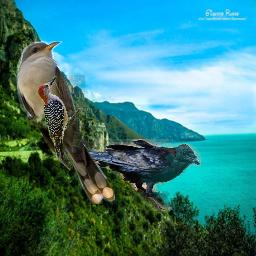Crow: (66, 139, 201, 211)
Cuckoo: (17, 41, 115, 204)
Woodpecker: (35, 75, 85, 160)
